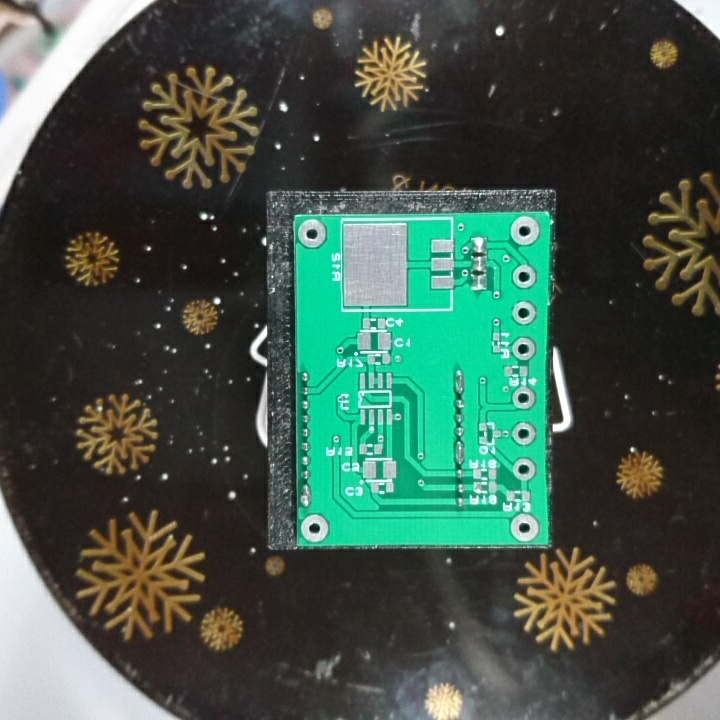F: (296, 216, 328, 250), (509, 215, 541, 248), (508, 511, 541, 542), (299, 511, 329, 543), (509, 298, 539, 328), (509, 263, 538, 291), (511, 420, 539, 448), (510, 384, 537, 411), (512, 457, 537, 483), (511, 335, 533, 363)
P: (451, 366, 467, 396), (451, 438, 468, 466), (298, 481, 314, 509)
